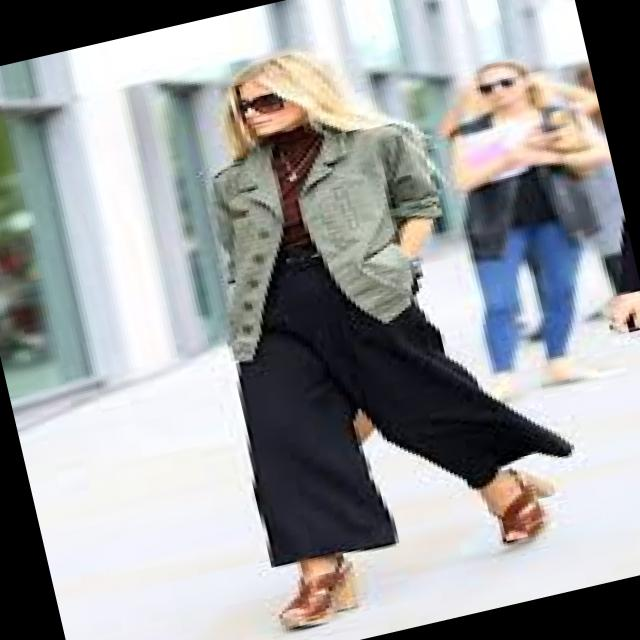Jacket: (180, 75, 640, 400)
